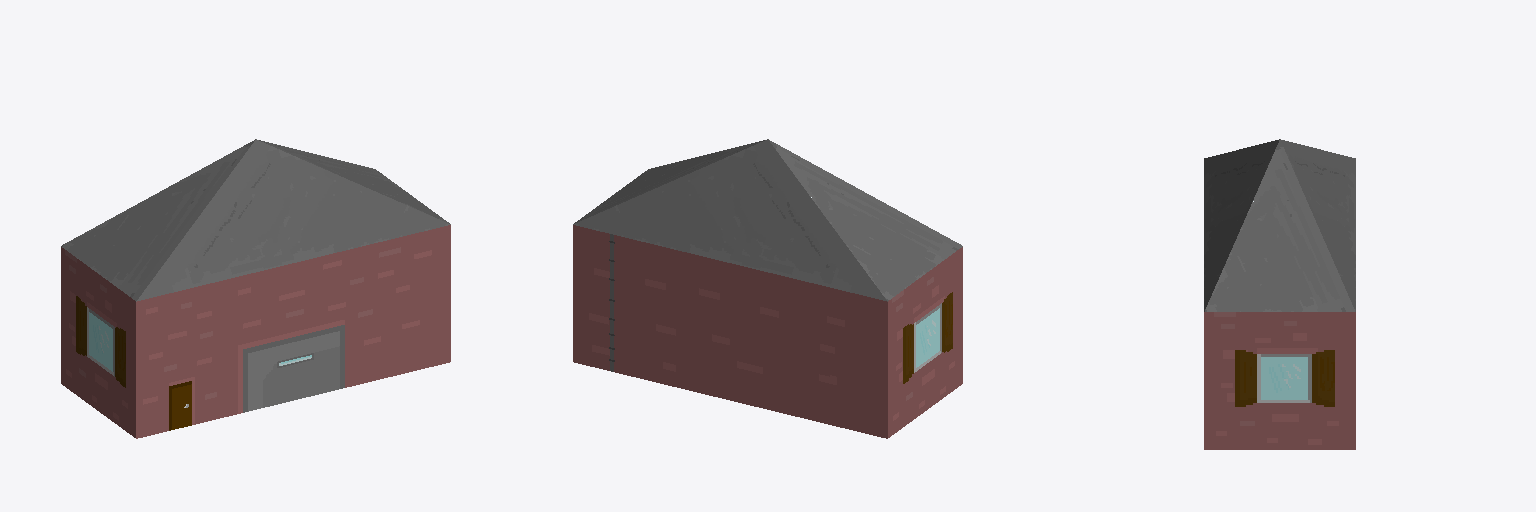
3 renders of one model, left to right at view 1: azimuth 30°, elevation 25°; view 2: azimuth 150°, elevation 25°; view 3: azimuth 270°, elevation 25°, orthographic.
Visible parts, largest first — view 1: cube, pyramid; view 2: cube, pyramid; view 3: pyramid, cube.
Boxes of the visible parts, box(x1,y1,x2,y2) form: cube: box(61, 225, 450, 438); pyramid: box(61, 139, 450, 301); cube: box(573, 225, 962, 438); pyramid: box(573, 139, 962, 301); pyramid: box(1204, 139, 1355, 311); cube: box(1204, 312, 1355, 449).
Bounding box in the file's own units: 3 × 2.12 × 1.25.
1 materials, 1 textured.